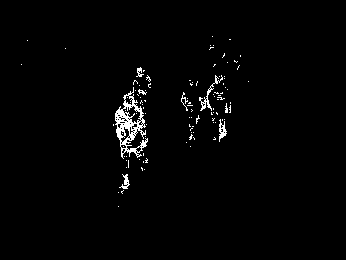person: (114, 94, 150, 190), (207, 74, 233, 142), (181, 80, 205, 142), (131, 67, 151, 110)
